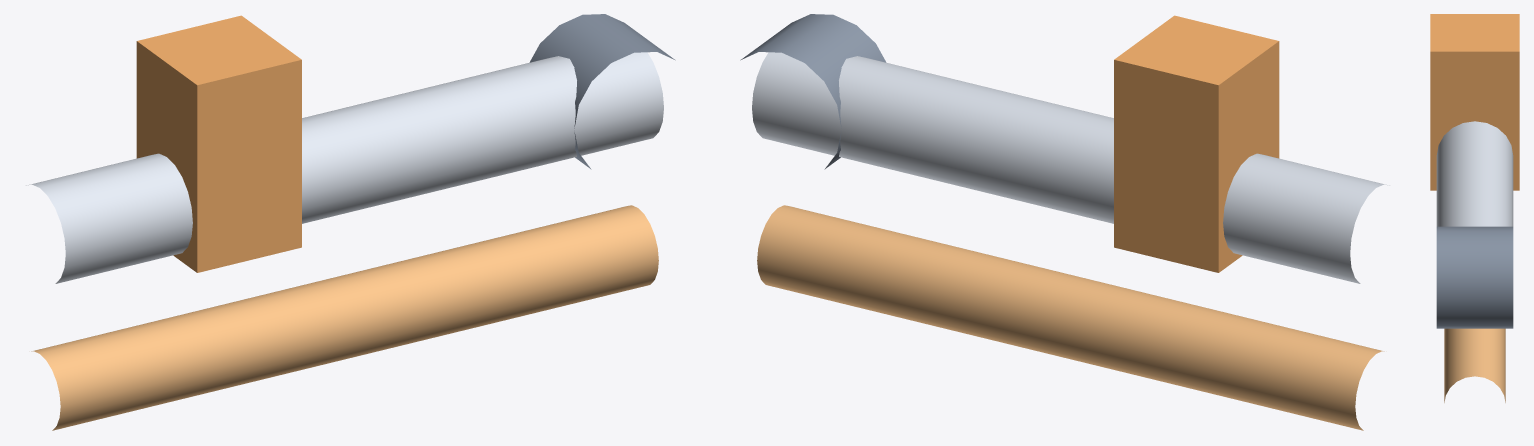
The model's file is pipe_friction_minor_losses.glb.
The picture shows the model from 3 angles, left to right: view 1: azimuth 30°, elevation 25°; view 2: azimuth 150°, elevation 25°; view 3: azimuth 270°, elevation 25°; orthographic projection. The views are drawn at different scales.
Parts seen in each view (by area): view 1: SmoothCopperPipeLine, GalvanizedPipeTestLine, GateValveRegulatingSpindle, NinetyDegreeElbowFitting; view 2: SmoothCopperPipeLine, GalvanizedPipeTestLine, GateValveRegulatingSpindle, NinetyDegreeElbowFitting; view 3: GateValveRegulatingSpindle, NinetyDegreeElbowFitting, GalvanizedPipeTestLine, SmoothCopperPipeLine.
Part boxes in pixels (box(x1,y1,x2,y2)): SmoothCopperPipeLine: box(31, 205, 658, 430); GalvanizedPipeTestLine: box(26, 52, 663, 283); GateValveRegulatingSpindle: box(136, 15, 301, 272); NinetyDegreeElbowFitting: box(529, 14, 675, 169); SmoothCopperPipeLine: box(757, 205, 1384, 430); GalvanizedPipeTestLine: box(752, 52, 1389, 283); GateValveRegulatingSpindle: box(1114, 15, 1279, 272); NinetyDegreeElbowFitting: box(740, 14, 886, 169); GateValveRegulatingSpindle: box(1430, 14, 1519, 190); NinetyDegreeElbowFitting: box(1436, 226, 1513, 328); GalvanizedPipeTestLine: box(1436, 121, 1513, 226); SmoothCopperPipeLine: box(1444, 328, 1505, 402).
Bounding box in the file's own units: 2.1 × 1.07 × 0.35.
